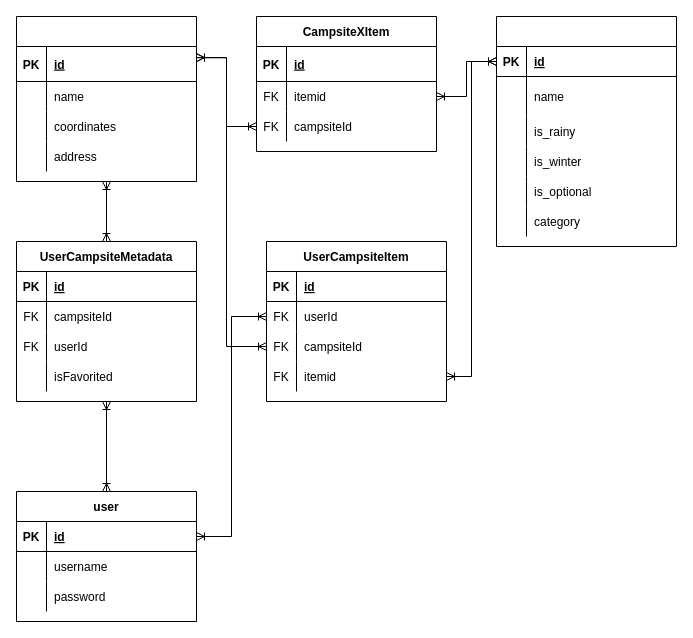
The diagram is 693 pixels wide and 638 high, and some of its shapes have lost their labels. Each missing label, with the box of its shape:
camping_gear: (496, 16, 676, 246)
parks: (16, 16, 196, 182)
